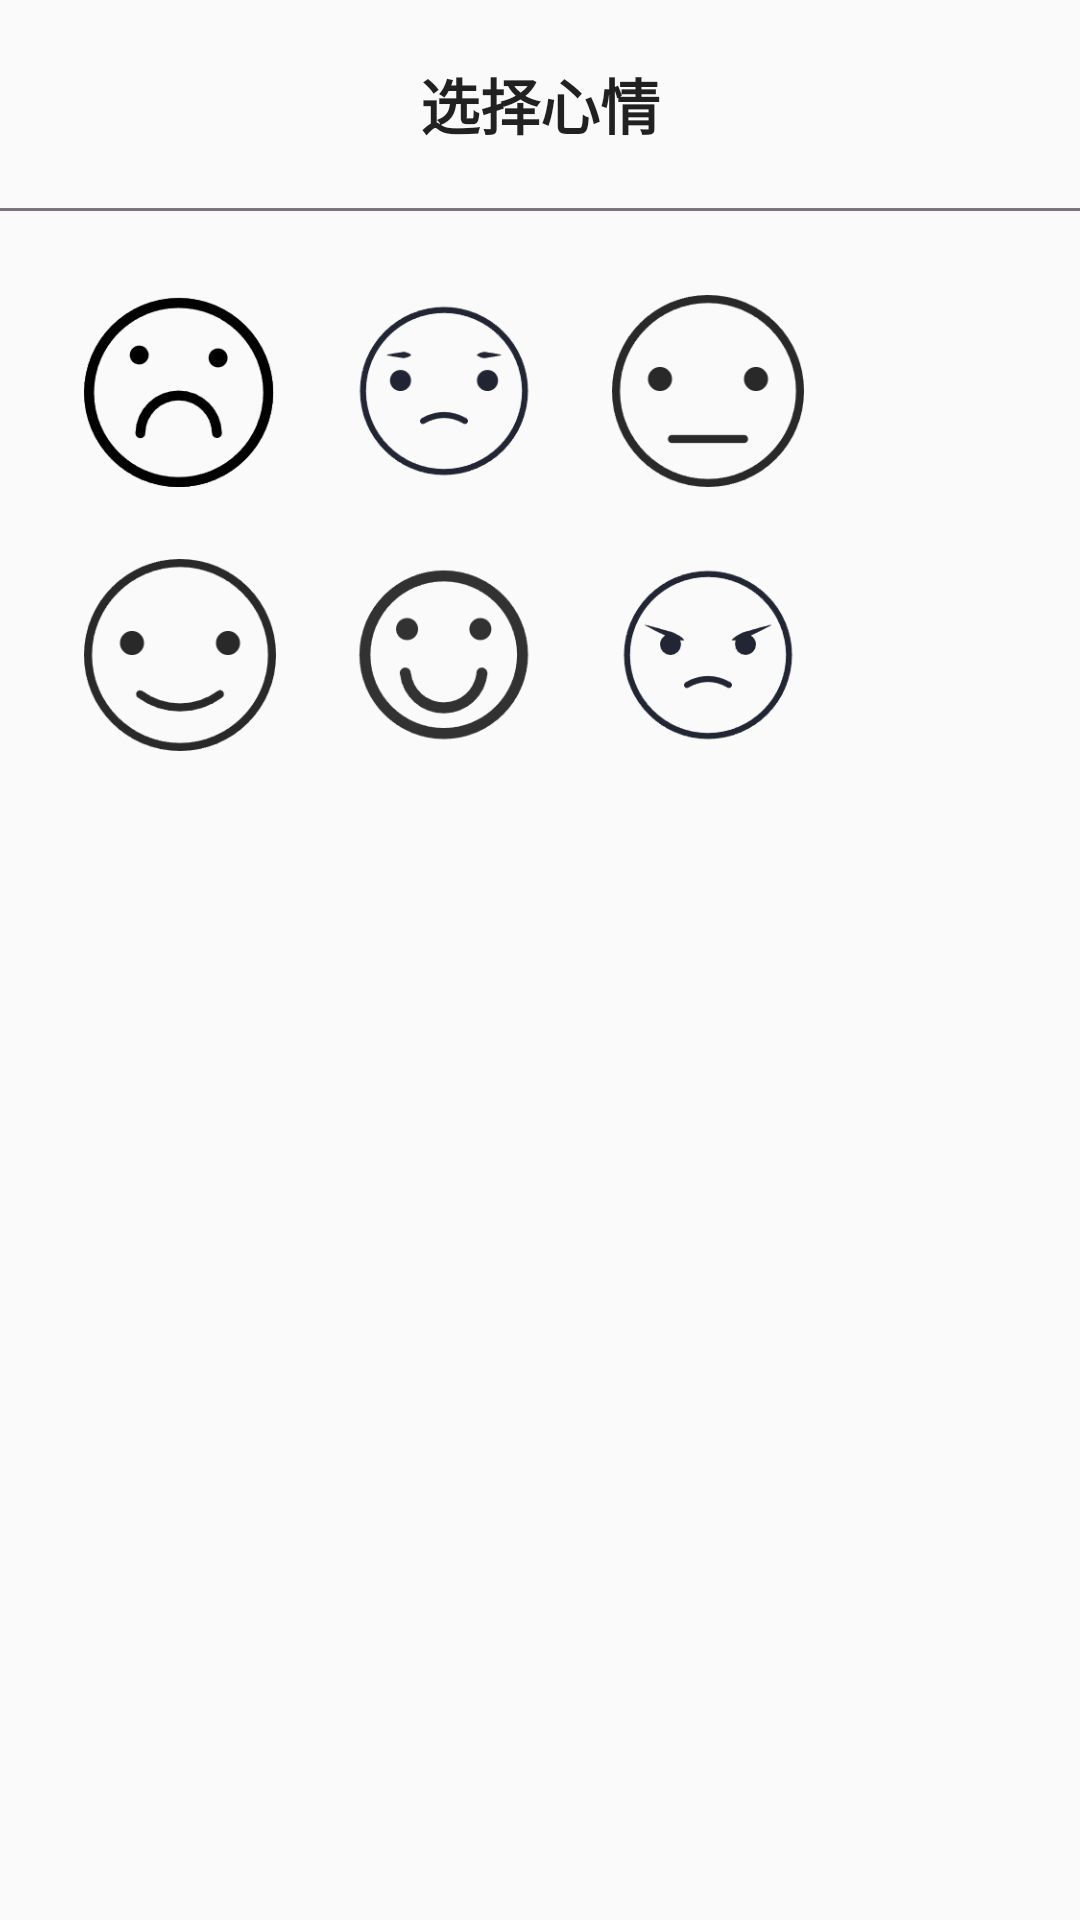

Screen size 1080px×1920px. Icon name, then its box in pixels as (x1, y1, x2, y2):
mood: (612, 295, 804, 487), (84, 297, 274, 487), (359, 306, 529, 476), (84, 559, 276, 751), (359, 570, 529, 740), (623, 570, 793, 740)
